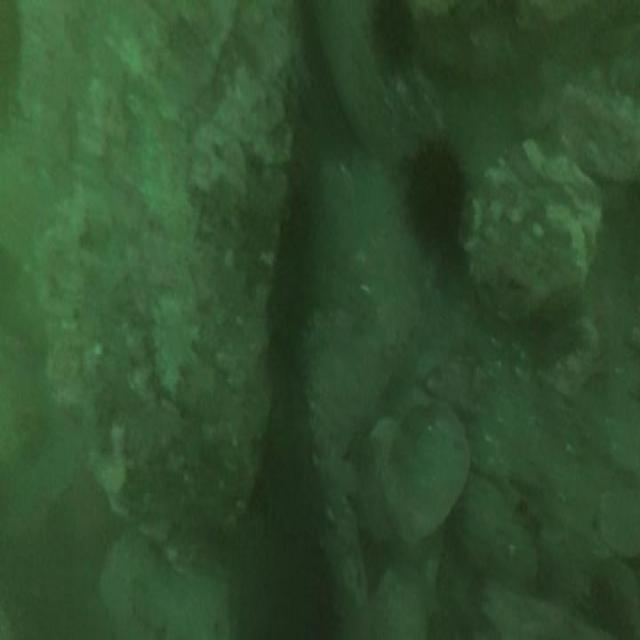echinus: (405, 145, 466, 248), (370, 2, 416, 72)
